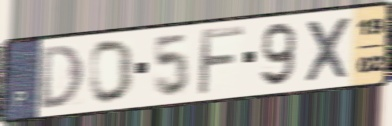5: (150, 31, 191, 99)
9: (258, 21, 298, 88)
D: (39, 42, 87, 112)
F: (195, 24, 247, 98)
O: (88, 38, 135, 106)
X: (303, 14, 353, 85)
